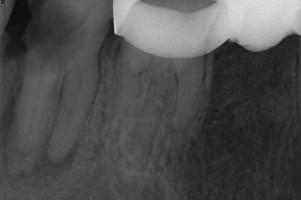Furcation Involvement: (34, 136, 80, 171)
